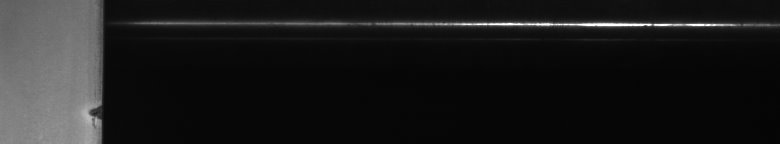hb: (82, 103, 92, 123)
